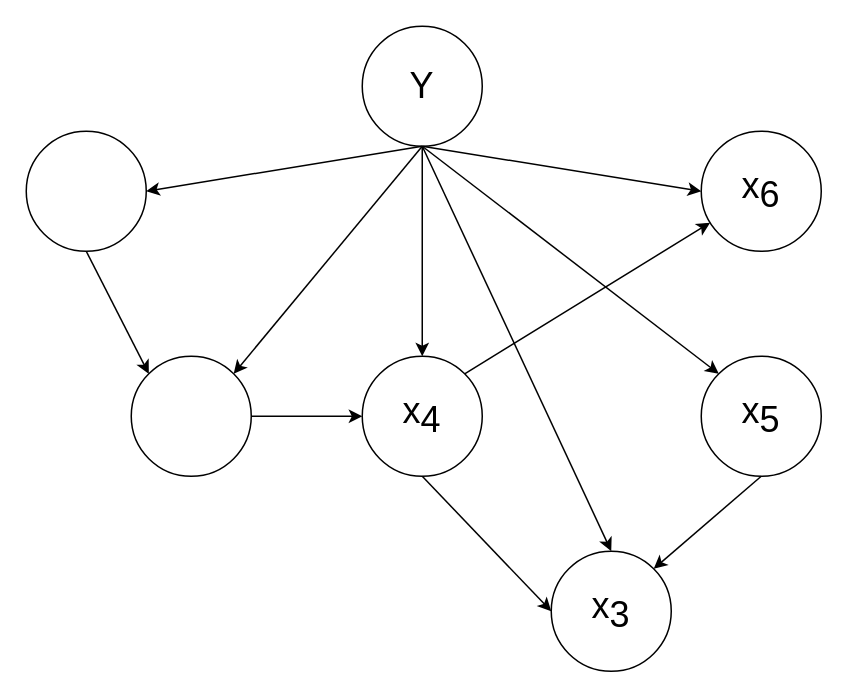
Some shapes in this 848 by 698 pixel diagram are drawn without their labels. Here are the shapes that lost their labels. From the top down, the box of each, then its label:
(25, 130, 146, 251): x 1
(130, 355, 251, 476): x 2
